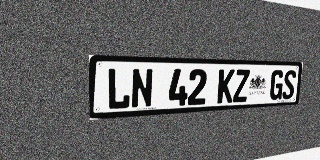2: (188, 69, 207, 105)
4: (168, 69, 189, 106)
G: (269, 70, 284, 100)
K: (217, 69, 235, 103)
L: (107, 68, 131, 110)
N: (131, 68, 153, 109)
S: (282, 70, 296, 99)
Z: (233, 69, 250, 102)
